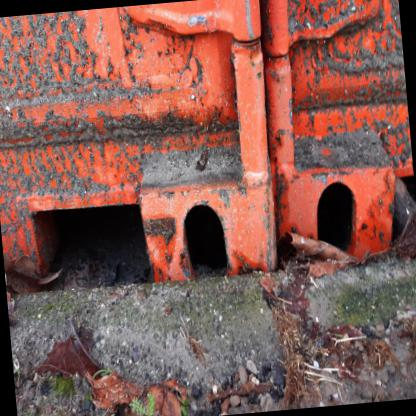CornerCasting: (136, 152, 280, 288), (277, 158, 407, 265)
